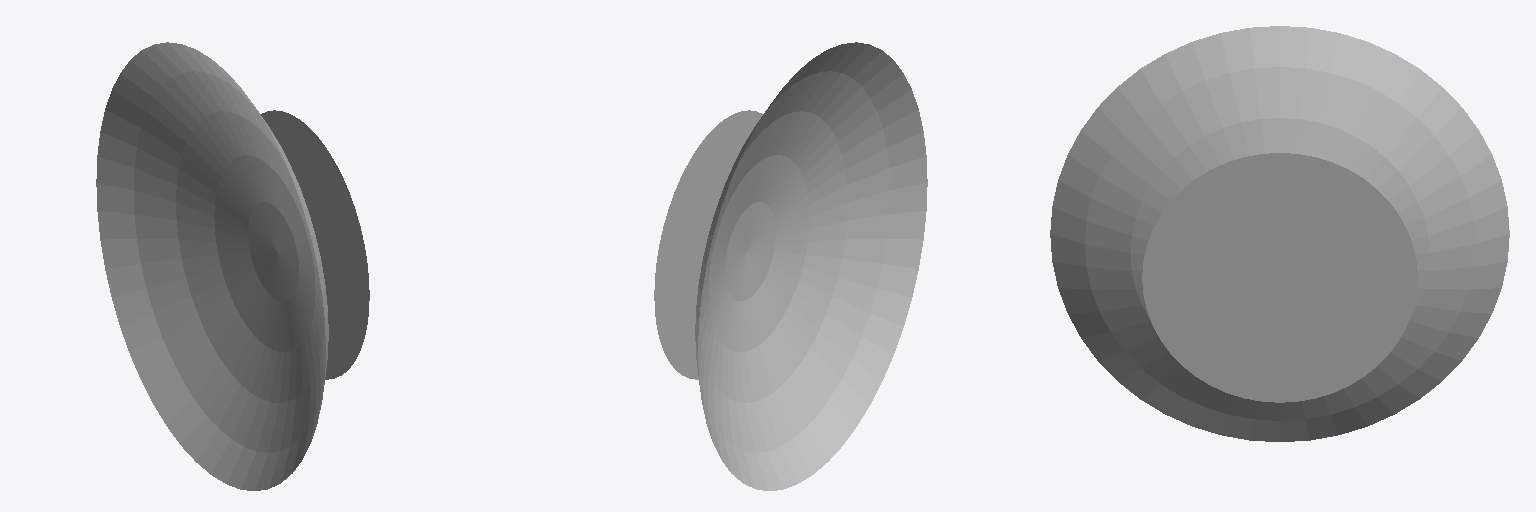
File: disks__13.obj
3 views of the same model, side by side, from view 1: azimuth 30°, elevation 25°; view 2: azimuth 150°, elevation 25°; view 3: azimuth 270°, elevation 25° (orthographic).
Parts seen in each view (by area): view 1: grp13; view 2: grp13; view 3: grp13.
Part boxes in pixels (left/top/right/bottom): grp13: left=96, top=42, right=369, bottom=490; grp13: left=654, top=42, right=927, bottom=490; grp13: left=1050, top=26, right=1509, bottom=441.
Size of the model in its own units: 1.12 by 5 by 5.